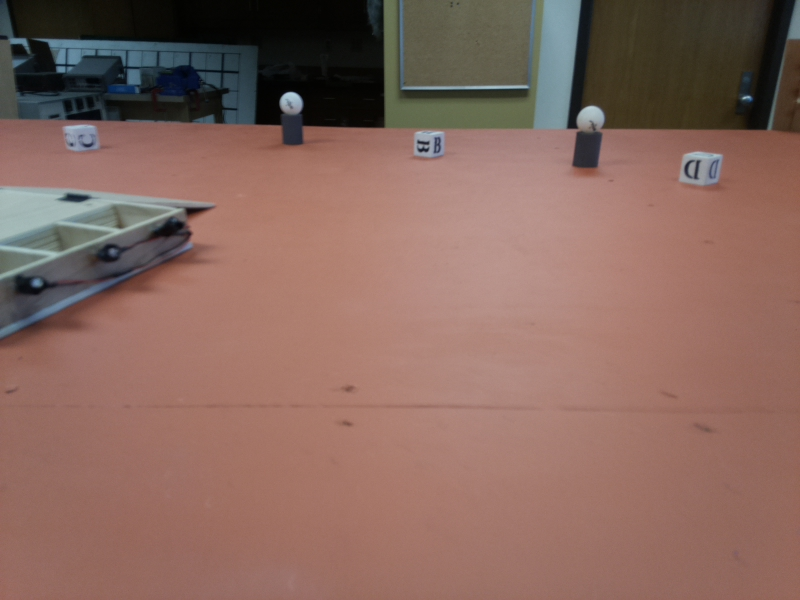blockB: (411, 131, 446, 162)
blockC: (66, 121, 97, 154)
blockD: (682, 145, 723, 191)
obstacle: (571, 104, 611, 173), (273, 86, 309, 148)
side: (4, 203, 195, 324)
